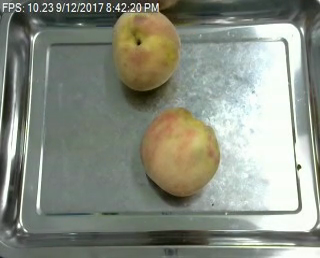Peach: (139, 107, 222, 196), (111, 6, 181, 91)
